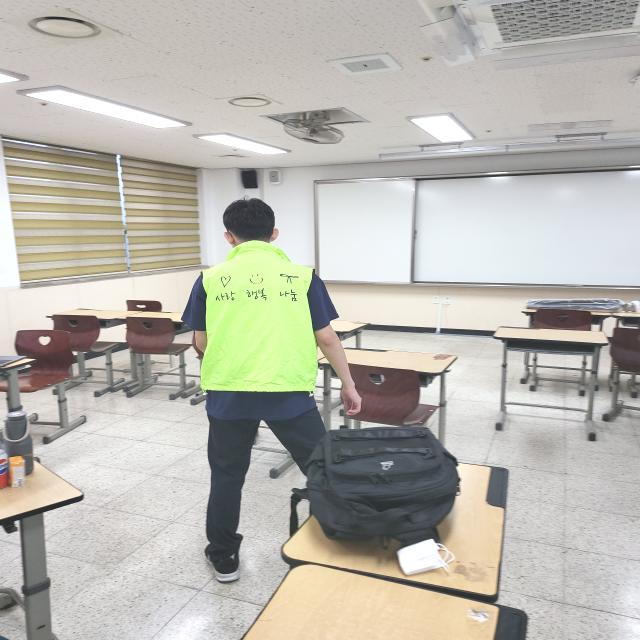weston_spy: (182, 245, 340, 416)
